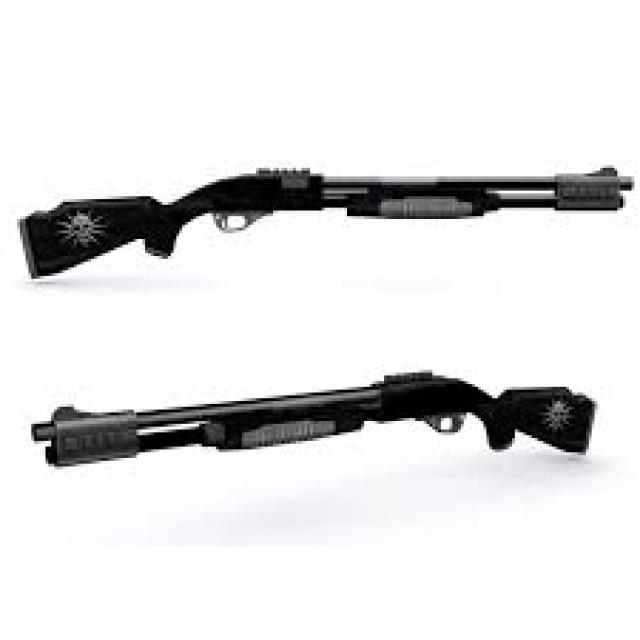long weapon: (21, 130, 626, 343), (11, 343, 608, 514)
